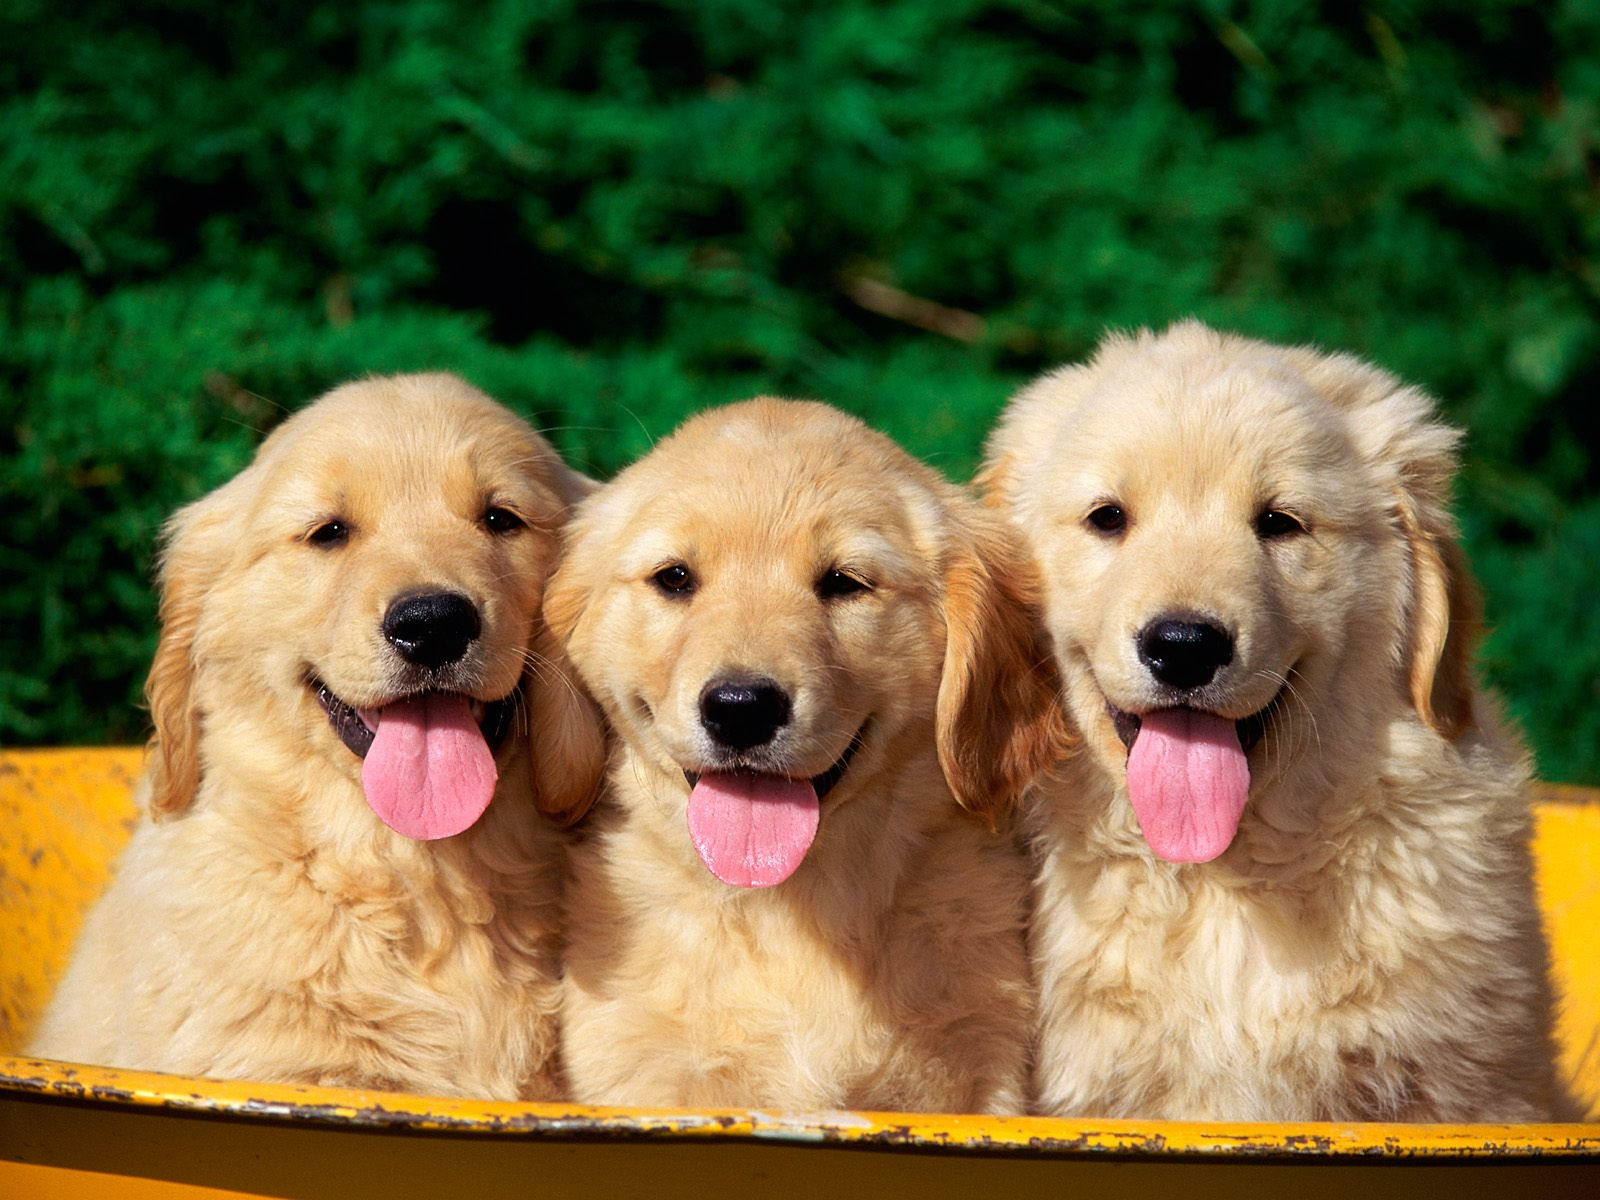dog: (1002, 306, 1566, 1122), (561, 349, 1034, 1111), (137, 345, 597, 1117)
